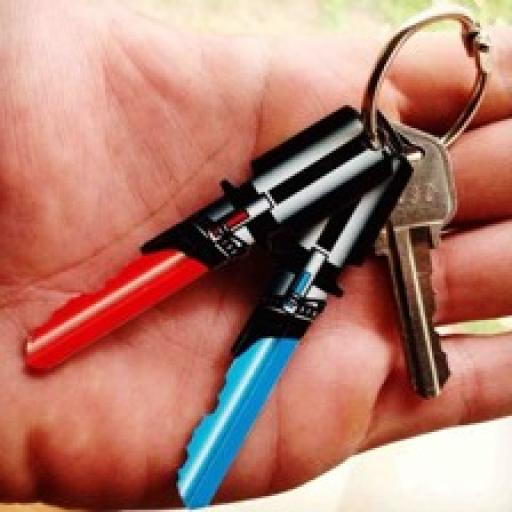lightsaber: (24, 104, 394, 374), (176, 153, 414, 508)
